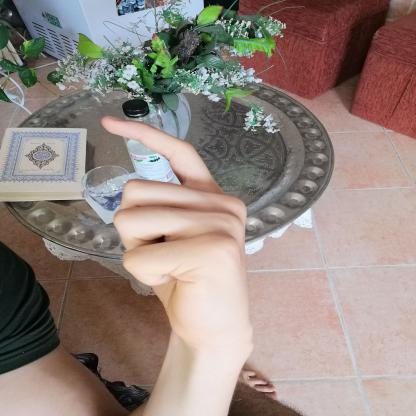RAA: (86, 105, 264, 358)
